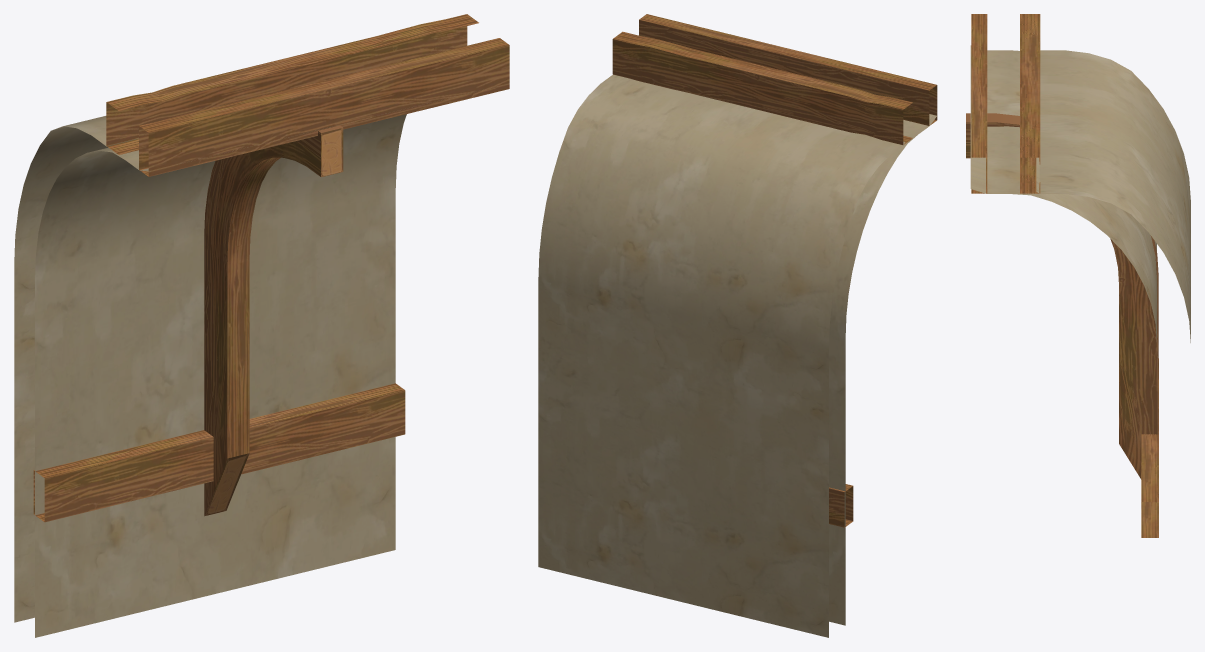
File: Overhang_Plaster_Short.glb
The picture shows the model from 3 angles, left to right: view 1: azimuth 30°, elevation 25°; view 2: azimuth 150°, elevation 25°; view 3: azimuth 270°, elevation 25°; orthographic projection. The views are drawn at different scales.
Parts seen in each view (by area): view 1: Overhang_Plaster_Short; view 2: Overhang_Plaster_Short; view 3: Overhang_Plaster_Short.
Boxes of the visible parts, x1=… form: Overhang_Plaster_Short: x1=14, y1=14, x2=509, y2=637; Overhang_Plaster_Short: x1=538, y1=14, x2=937, y2=637; Overhang_Plaster_Short: x1=966, y1=14, x2=1190, y2=537.
Size of the model in its own units: 2 by 3.12 by 1.32.
2 materials, 2 textured.
